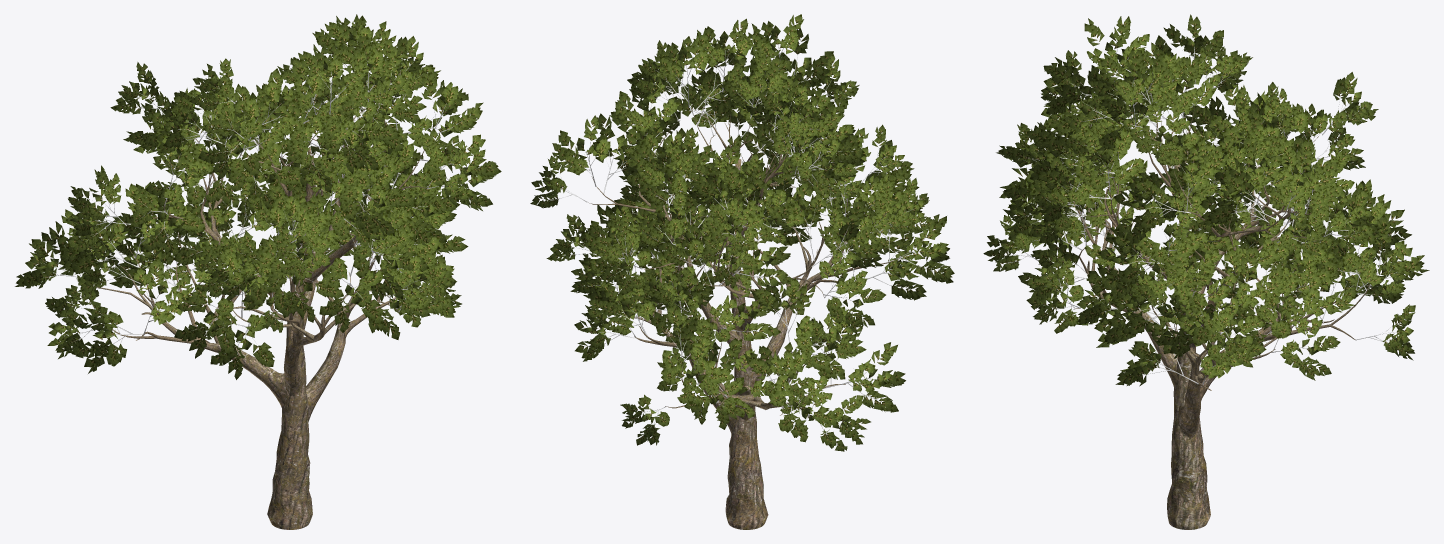
Rendered from maple_tree.glb.
The picture shows the model from 3 angles, left to right: view 1: azimuth 30°, elevation 25°; view 2: azimuth 150°, elevation 25°; view 3: azimuth 270°, elevation 25°; orthographic projection. The views are drawn at different scales.
Visible parts, largest first — view 1: Object_2, Object_3, Object_4; view 2: Object_2, Object_3, Object_4; view 3: Object_2, Object_3, Object_4.
Part boxes in pixels (<box>): Object_2: <box>15,14,501,379</box>; Object_3: <box>76,108,427,529</box>; Object_4: <box>41,36,470,365</box>; Object_2: <box>530,14,954,451</box>; Object_3: <box>588,103,900,529</box>; Object_4: <box>548,38,939,444</box>; Object_2: <box>983,14,1429,386</box>; Object_3: <box>1049,105,1370,529</box>; Object_4: <box>1005,43,1398,384</box>.
Size of the model in its own units: 112 by 144 by 117.
Materials: 3 (2 with a texture image).
